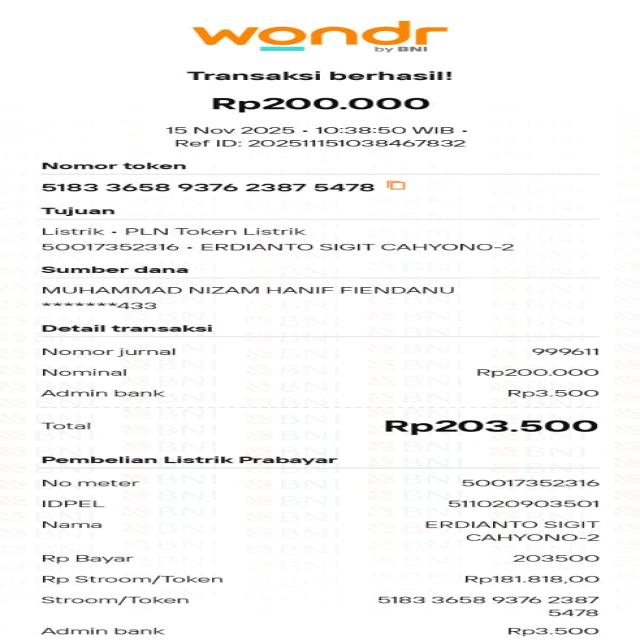date: (163, 124, 471, 136)
store: (186, 19, 477, 55)
total: (33, 416, 604, 438)
